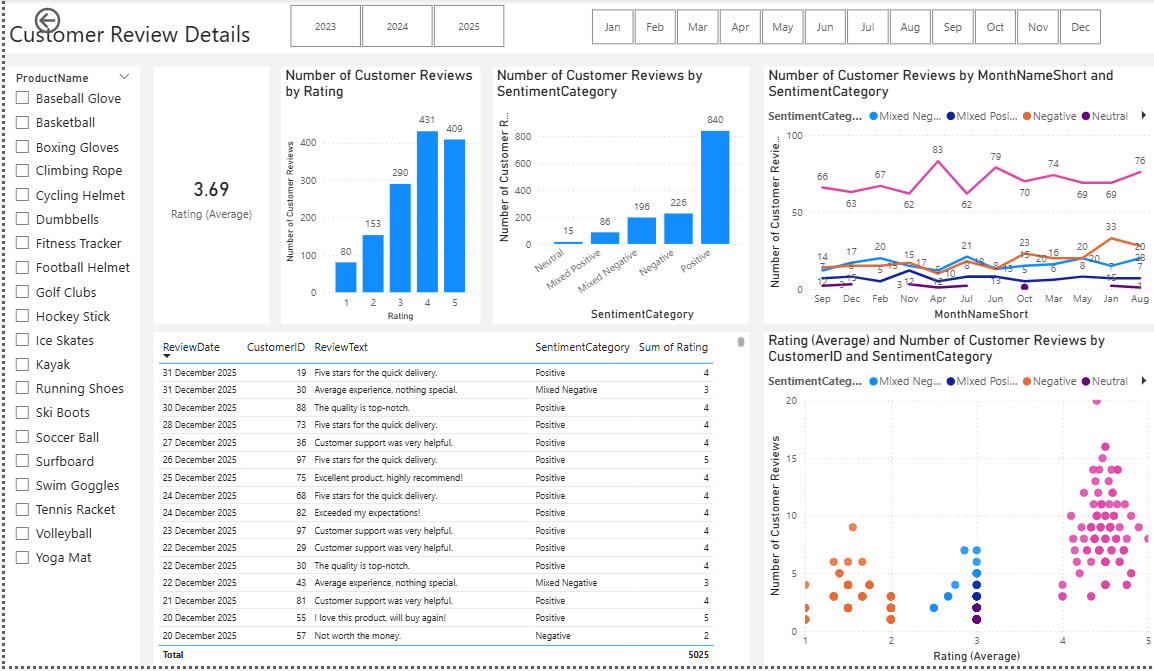

The page's visual inventory and layout, read from the dashboard file:
{"tool":"powerbi","page":{"name":"Customer Review Details","canvas":[1380,800],"ordinal":3},"visuals":[{"type":"textbox","box":[0,0,1379.9,64.8],"z":0},{"type":"slicer","fields":{"Values":["dim_products.ProductName"]},"box":[0,81,161.9,719.7],"z":1000},{"type":"slicer","fields":{"Values":["Calendar.Year"]},"box":[317.5,0,306.1,64.3],"z":2000},{"type":"slicer","fields":{"Values":["Calendar.MonthNameShort"]},"box":[678.3,5.4,660.3,55.8],"z":3000},{"type":"card","fields":{"Values":["_Calculations.Rating (Average)"]},"box":[178.1,81,138.5,309.5],"z":4000},{"type":"clusteredColumnChart","fields":{"Y":["_Calculations.Number of Customer Reviews"],"Category":["fact_customer_reviews_with_sentiment.Rating"]},"box":[331,81,239.3,309.5],"z":5000},{"type":"clusteredColumnChart","fields":{"Y":["_Calculations.Number of Customer Reviews"],"Category":["fact_customer_reviews_with_sentiment.SentimentCategory"]},"box":[584.7,81,307.7,309.5],"z":6000},{"type":"lineChart","fields":{"Category":["Calendar.MonthNameShort"],"Y":["_Calculations.Number of Customer Reviews"],"Series":["fact_customer_reviews_with_sentiment.SentimentCategory"]},"box":[910.4,81,469.6,309.5],"z":7000},{"type":"tableEx","fields":{"Values":["fact_customer_reviews.ReviewDate","fact_customer_reviews.CustomerID","fact_customer_reviews.ReviewText","fact_customer_reviews_with_sentiment.SentimentCategory","Sum(fact_customer_reviews_with_sentiment.Rating)"]},"box":[178.1,399.4,714.3,401.2],"z":8000},{"type":"actionButton","box":[0,0,100,40],"z":9000},{"type":"scatterChart","fields":{"X":["_Calculations.Rating (Average)"],"Y":["_Calculations.Number of Customer Reviews"],"Category":["fact_customer_reviews_with_sentiment.CustomerID"],"Series":["fact_customer_reviews_with_sentiment.SentimentCategory"]},"box":[910.4,399.4,469.6,401.2],"z":10000}]}

Visuals, with their boxes in screenshot pixels (x1, y1, x2, y2), scaled from the page's 1380x800 canvas onto the 1154x671 screenshot:
textbox: box(0, 0, 1153, 54)
slicer - dim_products.ProductName: box(0, 68, 135, 670)
slicer - Calendar.Year: box(266, 0, 521, 54)
slicer - Calendar.MonthNameShort: box(567, 5, 1119, 51)
card - _Calculations.Rating (Average): box(149, 68, 265, 328)
clusteredColumnChart - _Calculations.Number of Customer Reviews x fact_customer_reviews_with_sentiment.Rating: box(277, 68, 477, 328)
clusteredColumnChart - _Calculations.Number of Customer Reviews x fact_customer_reviews_with_sentiment.SentimentCategory: box(489, 68, 746, 328)
lineChart - Calendar.MonthNameShort x _Calculations.Number of Customer Reviews: box(761, 68, 1153, 328)
tableEx - fact_customer_reviews.ReviewDate x fact_customer_reviews.CustomerID: box(149, 335, 746, 670)
actionButton: box(0, 0, 84, 34)
scatterChart - _Calculations.Rating (Average) x _Calculations.Number of Customer Reviews: box(761, 335, 1153, 670)
